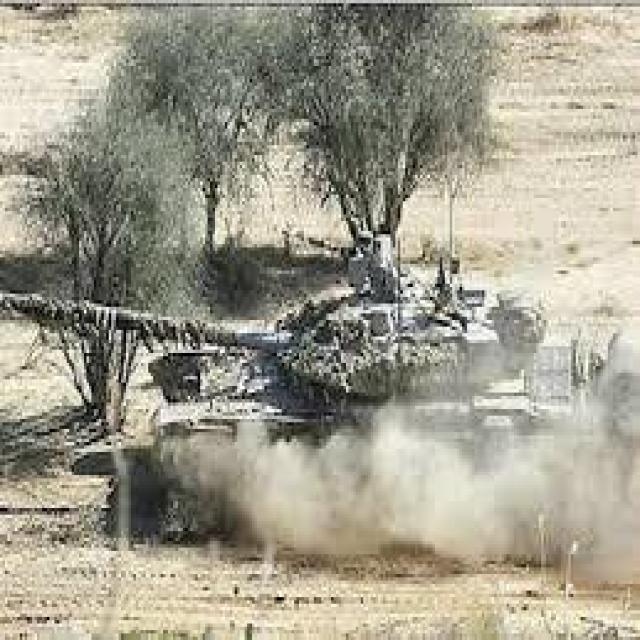Tanks: (82, 257, 596, 531)
